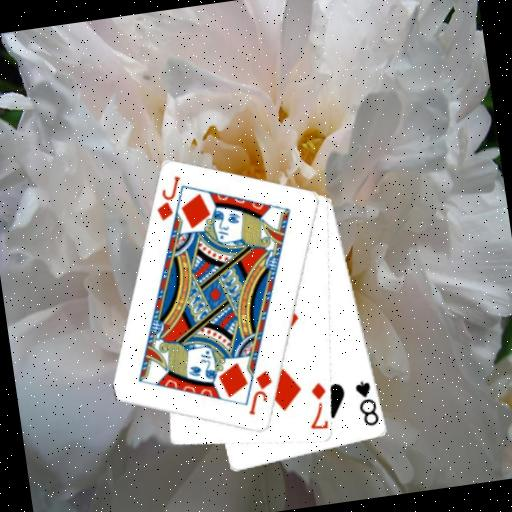7D: (302, 379, 333, 433)
8S: (352, 376, 382, 429)
JD: (240, 367, 279, 419), (150, 173, 188, 224)
